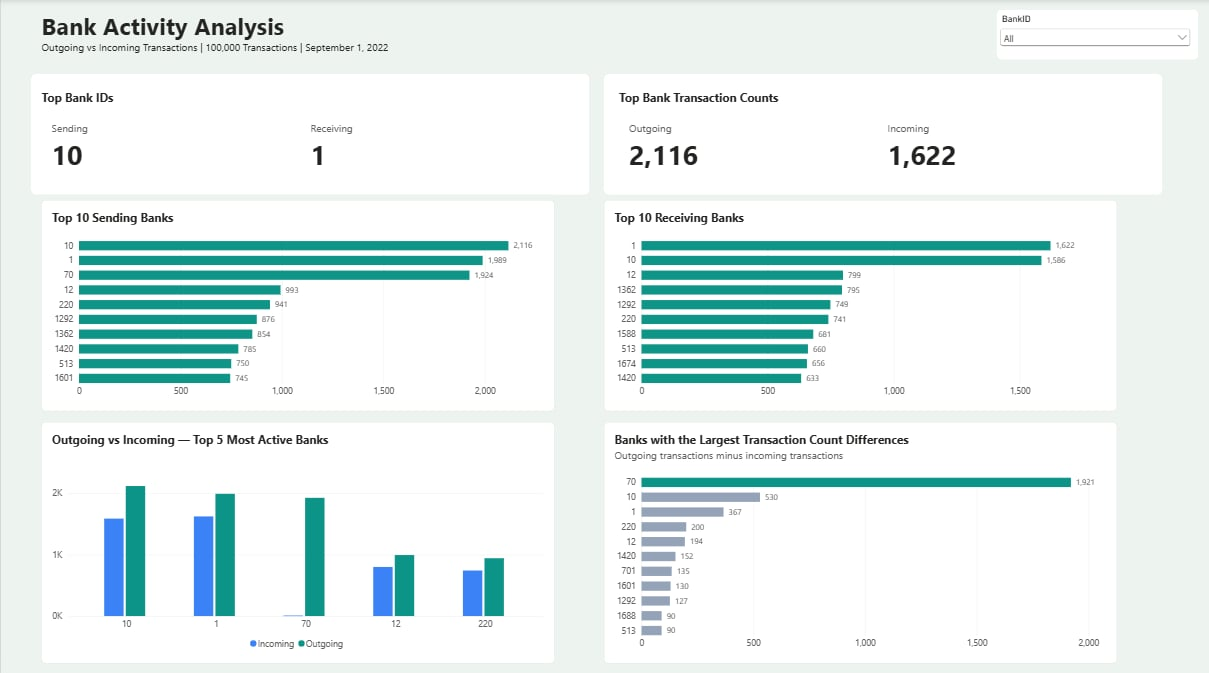

This screenshot's page, from the dashboard's own definition file:
{"tool":"powerbi","page":{"name":"Bank Activity","canvas":[1920,1080],"ordinal":1},"visuals":[{"type":"shape","box":[1584,16,320,80],"z":0},{"type":"shape","box":[960,120,888,192],"z":1000},{"type":"shape","box":[48,120,888,192],"z":2000},{"type":"cardVisual","title":"Top Bank IDs","fields":{"Data":["Transactions.Top Sending Bank","Transactions.Top Receiving Bank"]},"box":[64,144,816,144],"z":3000},{"type":"cardVisual","title":"Top Bank Transaction Counts","fields":{"Data":["Transactions.Top Sending Bank Transactions","Transactions.Top Receiving Bank Transactions"]},"box":[984,144,816,144],"z":4000},{"type":"textbox","box":[64,16,560,112],"z":5000},{"type":"clusteredBarChart","title":"Top 10 Sending Banks","fields":{"Category":["Transactions.FromBank"],"Y":["Transactions.Total Transactions"]},"box":[64,320,816,336],"z":6000},{"type":"clusteredBarChart","title":"Top 10 Receiving Banks","fields":{"Category":["Transactions.ToBank"],"Y":["Transactions.Total Transactions"]},"box":[960,320,816,336],"z":7000},{"type":"clusteredColumnChart","title":"Outgoing vs Incoming — Top 5 Most Active Banks","fields":{"Category":["BankActivity.BankID"],"Y":["Sum(BankActivity.IncomingTransactions)","Sum(BankActivity.OutgoingTransactions)"]},"box":[64,672,816,384],"z":8000},{"type":"clusteredBarChart","title":"Banks with the Largest Transaction Count Differences","fields":{"Category":["BankActivity.BankID"],"Y":["Sum(BankActivity.TransactionDifference)"]},"box":[960,672,816,384],"z":9000},{"type":"slicer","fields":{"Values":["BankActivity.BankID_Sort"]},"box":[1584,24,312,72],"z":10000}]}

Visuals, with their boxes in screenshot pixels (x1, y1, x2, y2), scaled from the page's 1920x1080 canvas onto the 1209x673 screenshot:
shape: region(997, 10, 1199, 60)
shape: region(604, 75, 1164, 194)
shape: region(30, 75, 589, 194)
"Top Bank IDs" cardVisual: region(40, 90, 554, 179)
"Top Bank Transaction Counts" cardVisual: region(620, 90, 1133, 179)
textbox: region(40, 10, 393, 80)
"Top 10 Sending Banks" clusteredBarChart: region(40, 199, 554, 409)
"Top 10 Receiving Banks" clusteredBarChart: region(604, 199, 1118, 409)
"Outgoing vs Incoming — Top 5 Most Active Banks" clusteredColumnChart: region(40, 419, 554, 658)
"Banks with the Largest Transaction Count Differences" clusteredBarChart: region(604, 419, 1118, 658)
slicer - BankActivity.BankID_Sort: region(997, 15, 1194, 60)
